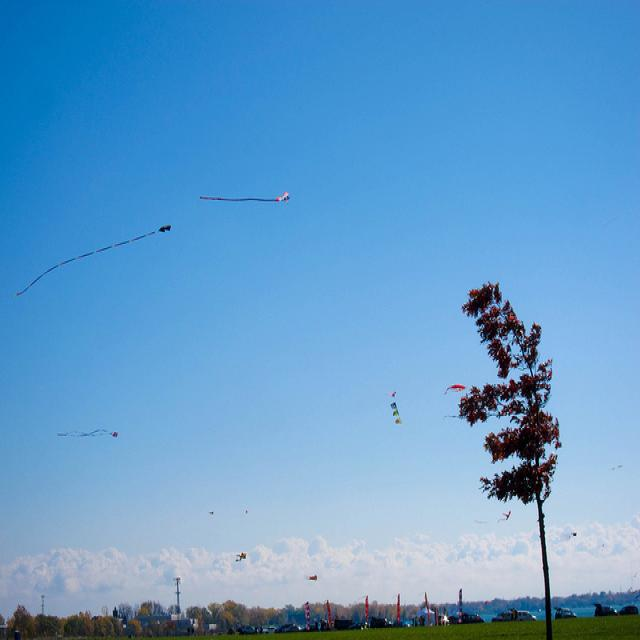Vehicle: (554, 606, 577, 618), (368, 616, 392, 626), (594, 607, 618, 617), (618, 605, 639, 616), (517, 610, 537, 621), (392, 618, 413, 628), (492, 613, 514, 622), (463, 615, 485, 624), (277, 623, 293, 633), (446, 615, 459, 625), (262, 626, 278, 634), (282, 626, 300, 632), (348, 623, 365, 629)
